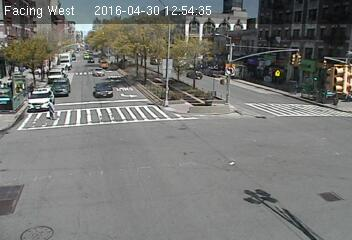neg: (87, 83, 101, 101), (270, 69, 281, 84), (45, 51, 55, 65), (82, 39, 92, 52), (23, 62, 31, 73)
pos: (44, 98, 60, 120), (24, 80, 36, 96), (6, 68, 13, 77)
